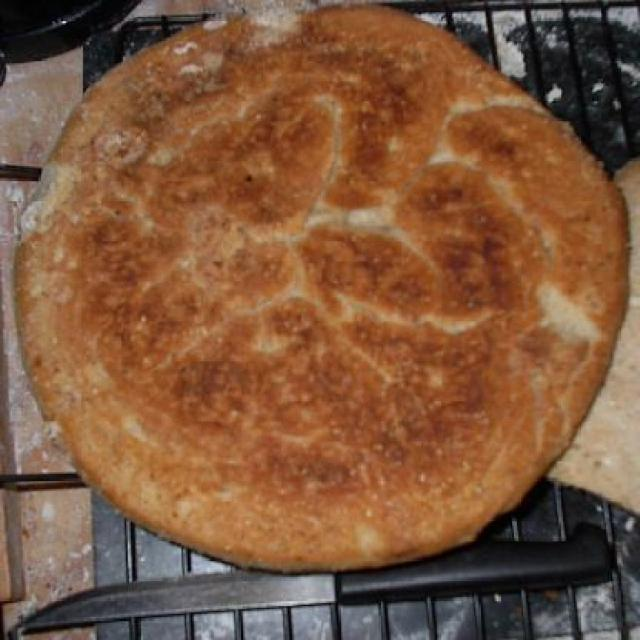Bread: (0, 0, 623, 617)
